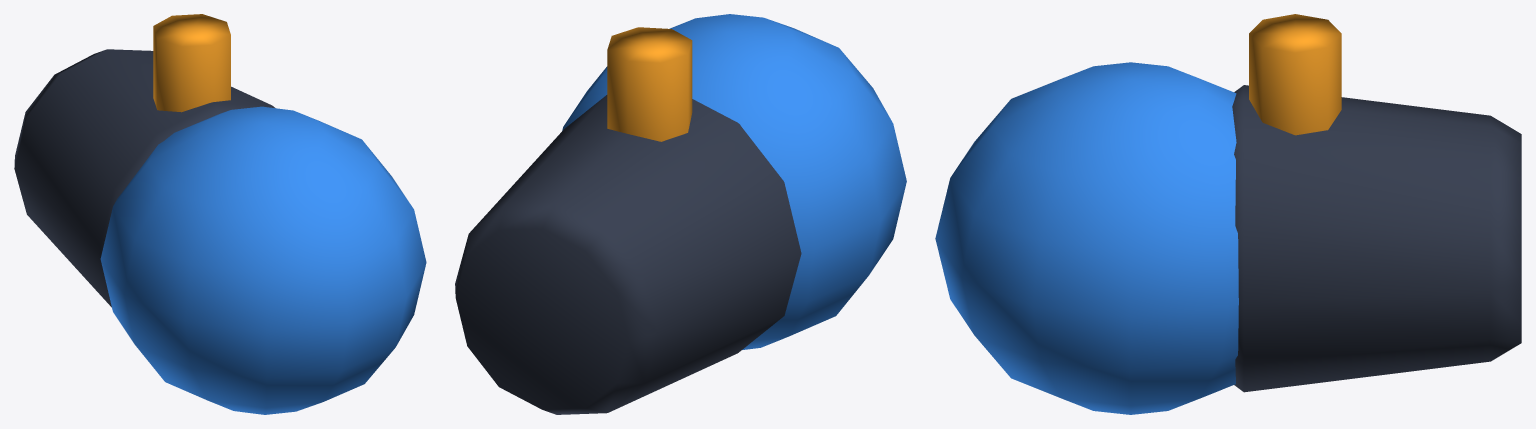
Rendered from glove_magma.obj.
3 views of the same model, side by side, from view 1: azimuth 30°, elevation 25°; view 2: azimuth 150°, elevation 25°; view 3: azimuth 270°, elevation 25° (orthographic). The views are drawn at different scales.
Size of the model in its own units: 0.36 by 0.39 by 0.57.
